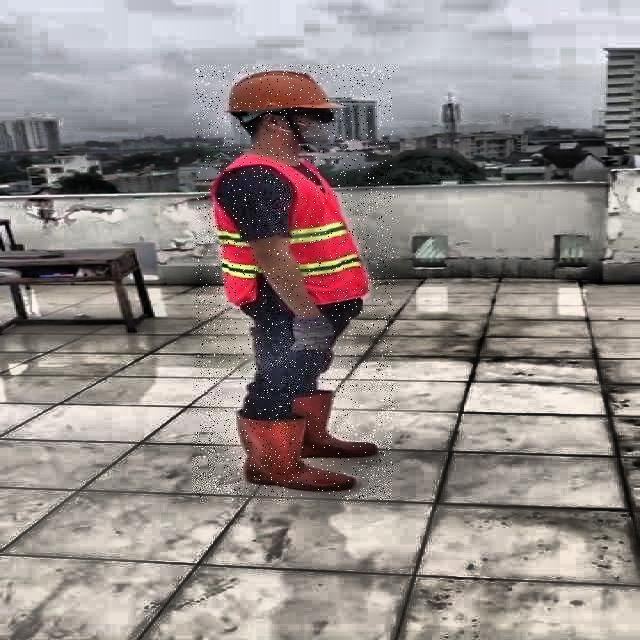safety_helmet: (222, 69, 340, 112)
safety_jacket: (210, 154, 368, 304)
